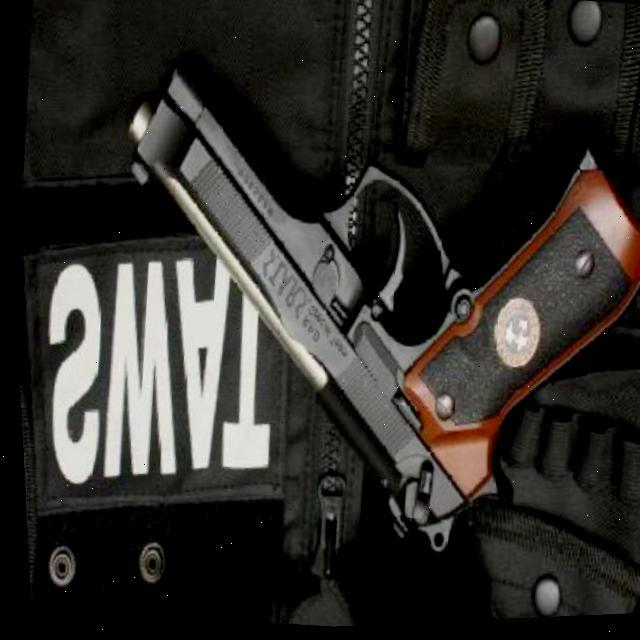gun: (79, 21, 640, 596)
